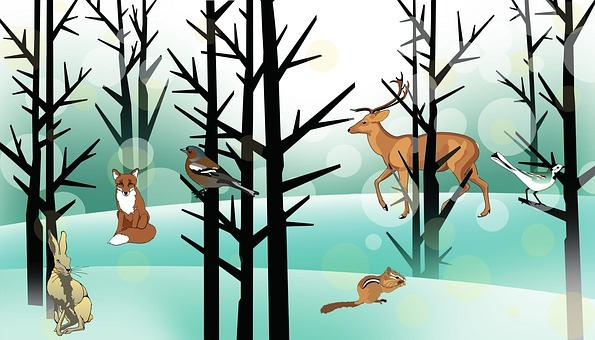bird: (173, 136, 266, 207), (484, 145, 568, 209)
